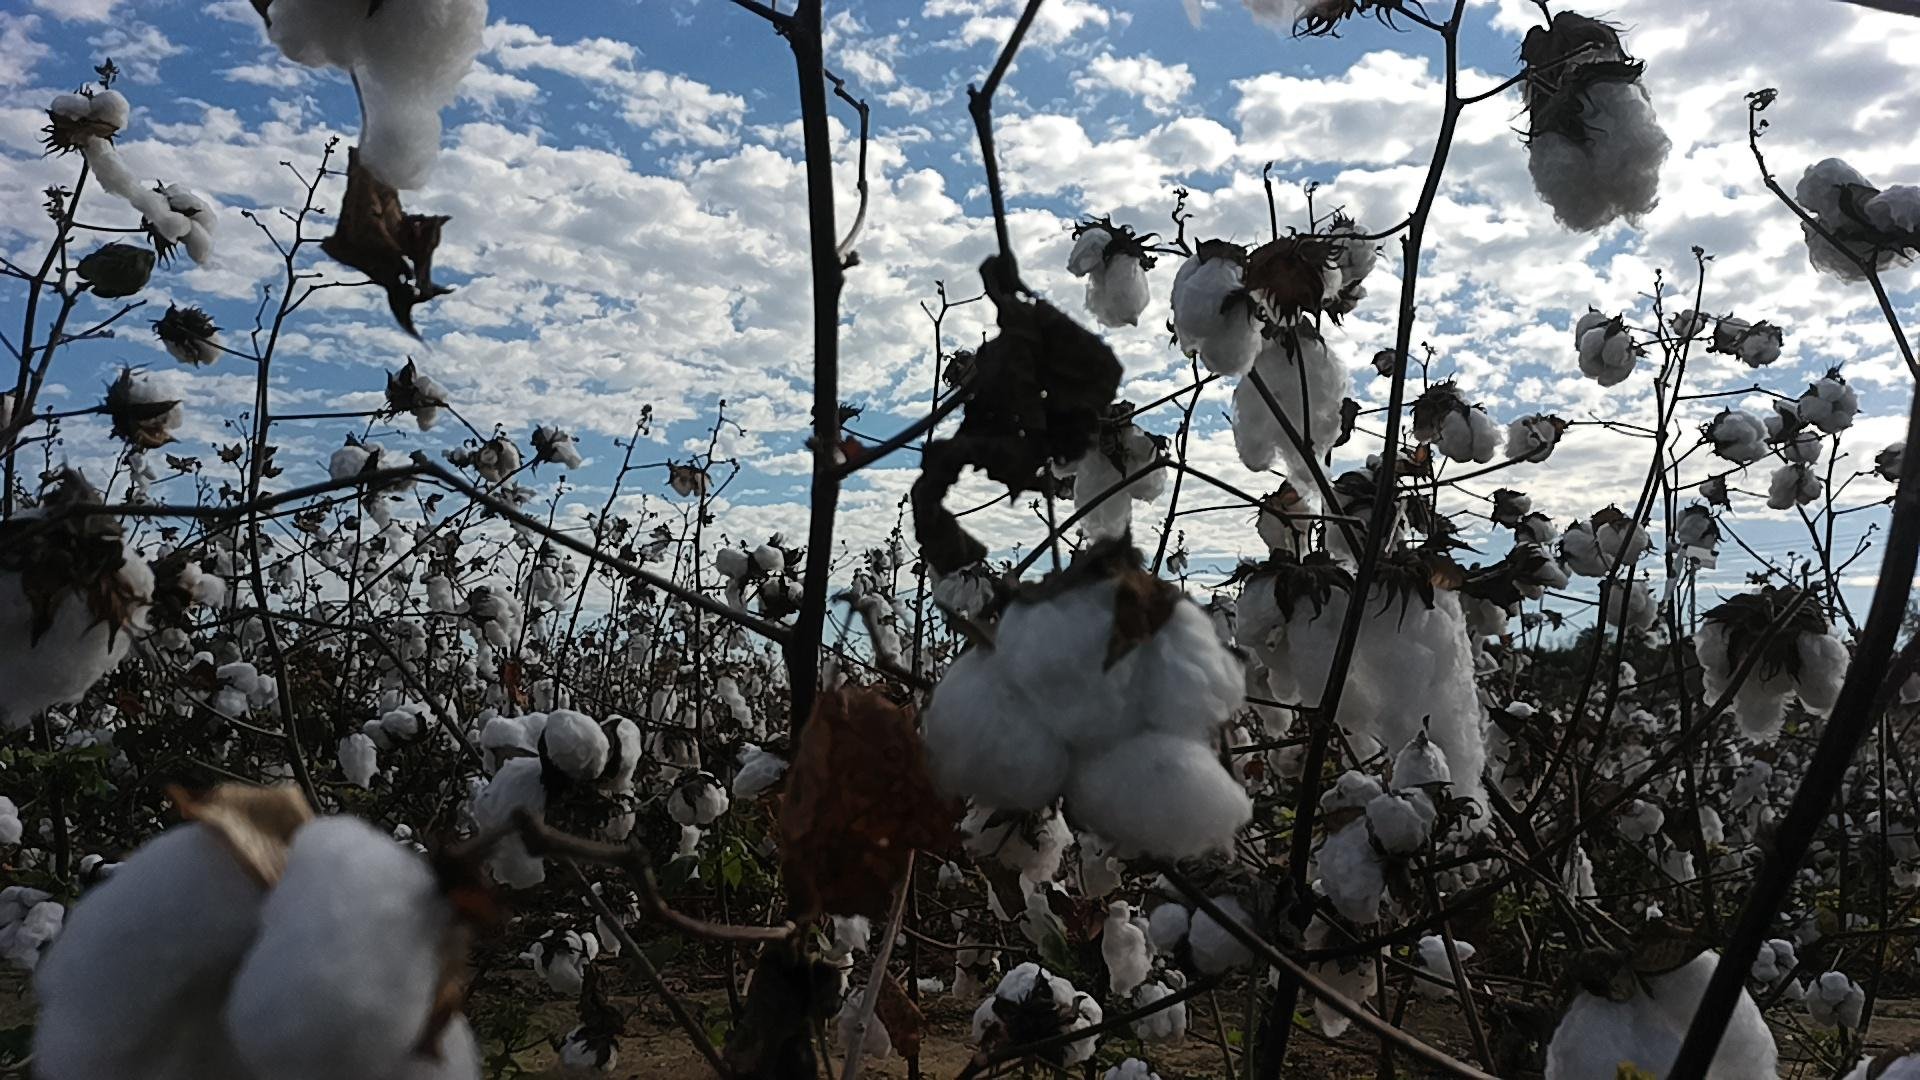cotton_ready: (33, 816, 479, 1080), (920, 584, 1249, 858), (268, 0, 491, 190), (1342, 564, 1486, 820), (0, 498, 158, 725), (1542, 948, 1776, 1080), (472, 708, 641, 891), (1319, 738, 1452, 922), (1528, 78, 1672, 232), (1695, 616, 1853, 744), (1232, 328, 1349, 496), (1230, 564, 1357, 715), (51, 91, 173, 224), (1046, 414, 1171, 539), (1793, 154, 1907, 291), (972, 964, 1105, 1067), (1143, 873, 1270, 981), (1308, 877, 1393, 1039), (1518, 29, 1655, 127), (1171, 247, 1262, 376), (959, 804, 1076, 889), (1068, 224, 1150, 328), (1323, 468, 1404, 560), (1249, 256, 1342, 331), (731, 728, 798, 800), (150, 187, 215, 258), (119, 373, 182, 444), (1261, 488, 1315, 560), (670, 769, 731, 827), (1440, 406, 1501, 464), (1320, 224, 1378, 284), (1865, 181, 1920, 237), (1241, 0, 1342, 30)
